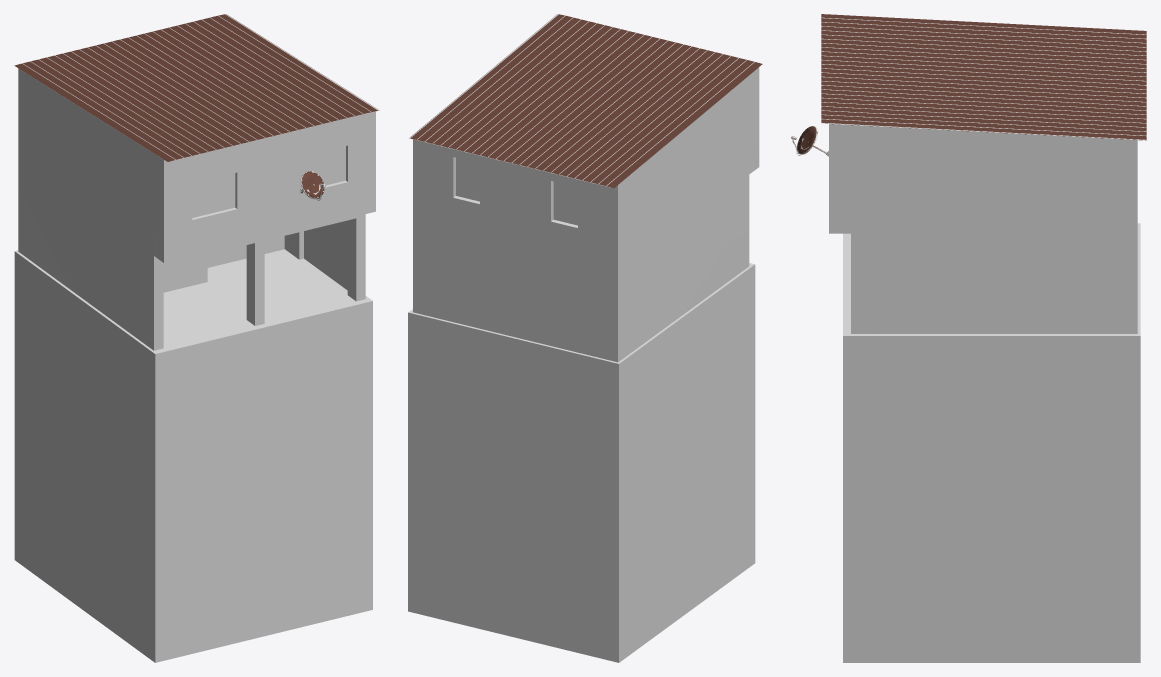
File: CASA17.fbx
3 renders of one model, left to right at view 1: azimuth 30°, elevation 25°; view 2: azimuth 150°, elevation 25°; view 3: azimuth 270°, elevation 25°, orthographic. The views are drawn at different scales.
Visible parts, largest first — view 1: CUBE_LOD0, CASA17_LOD0, UTM_CASA17; view 2: CUBE_LOD0, CASA17_LOD0, UTM_CASA17; view 3: CUBE_LOD0, CASA17_LOD0, UTM_CASA17.
Boxes of the visible parts, x1,y1,x2,y2 form: CUBE_LOD0: (14, 249, 372, 662); CASA17_LOD0: (18, 14, 379, 350); UTM_CASA17: (14, 14, 379, 200); CUBE_LOD0: (408, 263, 755, 662); CASA17_LOD0: (409, 14, 759, 362); UTM_CASA17: (409, 14, 762, 188); CUBE_LOD0: (843, 223, 1140, 662); CASA17_LOD0: (791, 17, 1146, 333); UTM_CASA17: (792, 14, 1146, 155).
Size of what is drawn, in the model's own units: 750 by 1672 by 1001.
